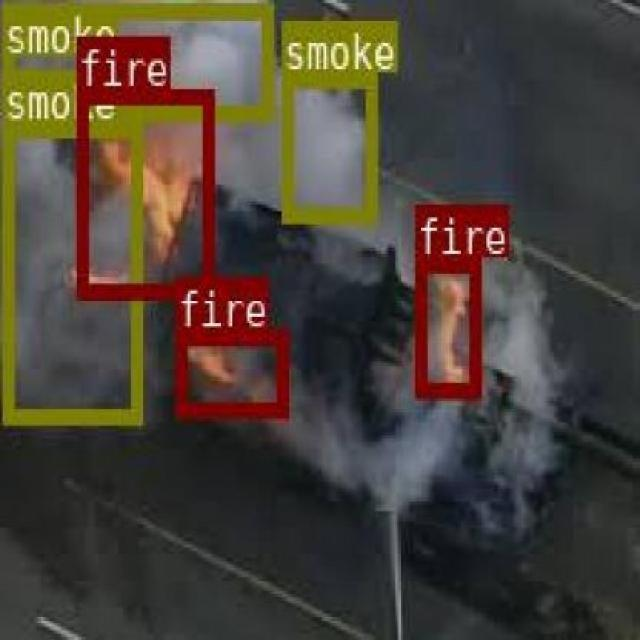fire: (76, 87, 213, 296), (173, 328, 286, 416), (414, 257, 477, 396)
smoke: (2, 120, 141, 422), (1, 0, 270, 118), (281, 73, 377, 219)
